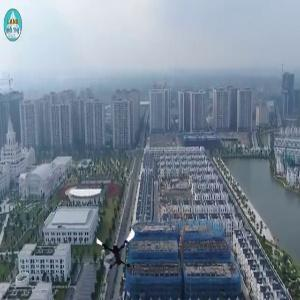drone: (94, 228, 140, 274)
